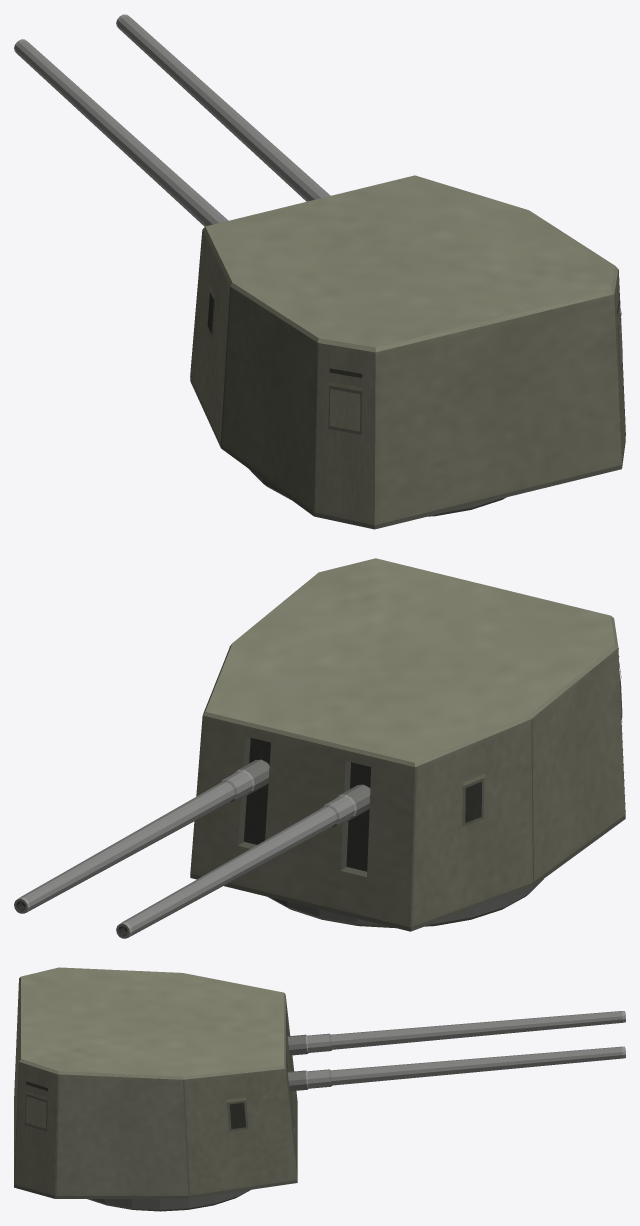
The model's file is chinese_twin_140mm_gun_held.obj.
The picture shows the model from 3 angles, top to bottom: view 1: azimuth 30°, elevation 25°; view 2: azimuth 150°, elevation 25°; view 3: azimuth 270°, elevation 25°; orthographic projection. The views are drawn at different scales.
Size of the model in its own units: 0.4358 by 0.2762 by 1.03.
